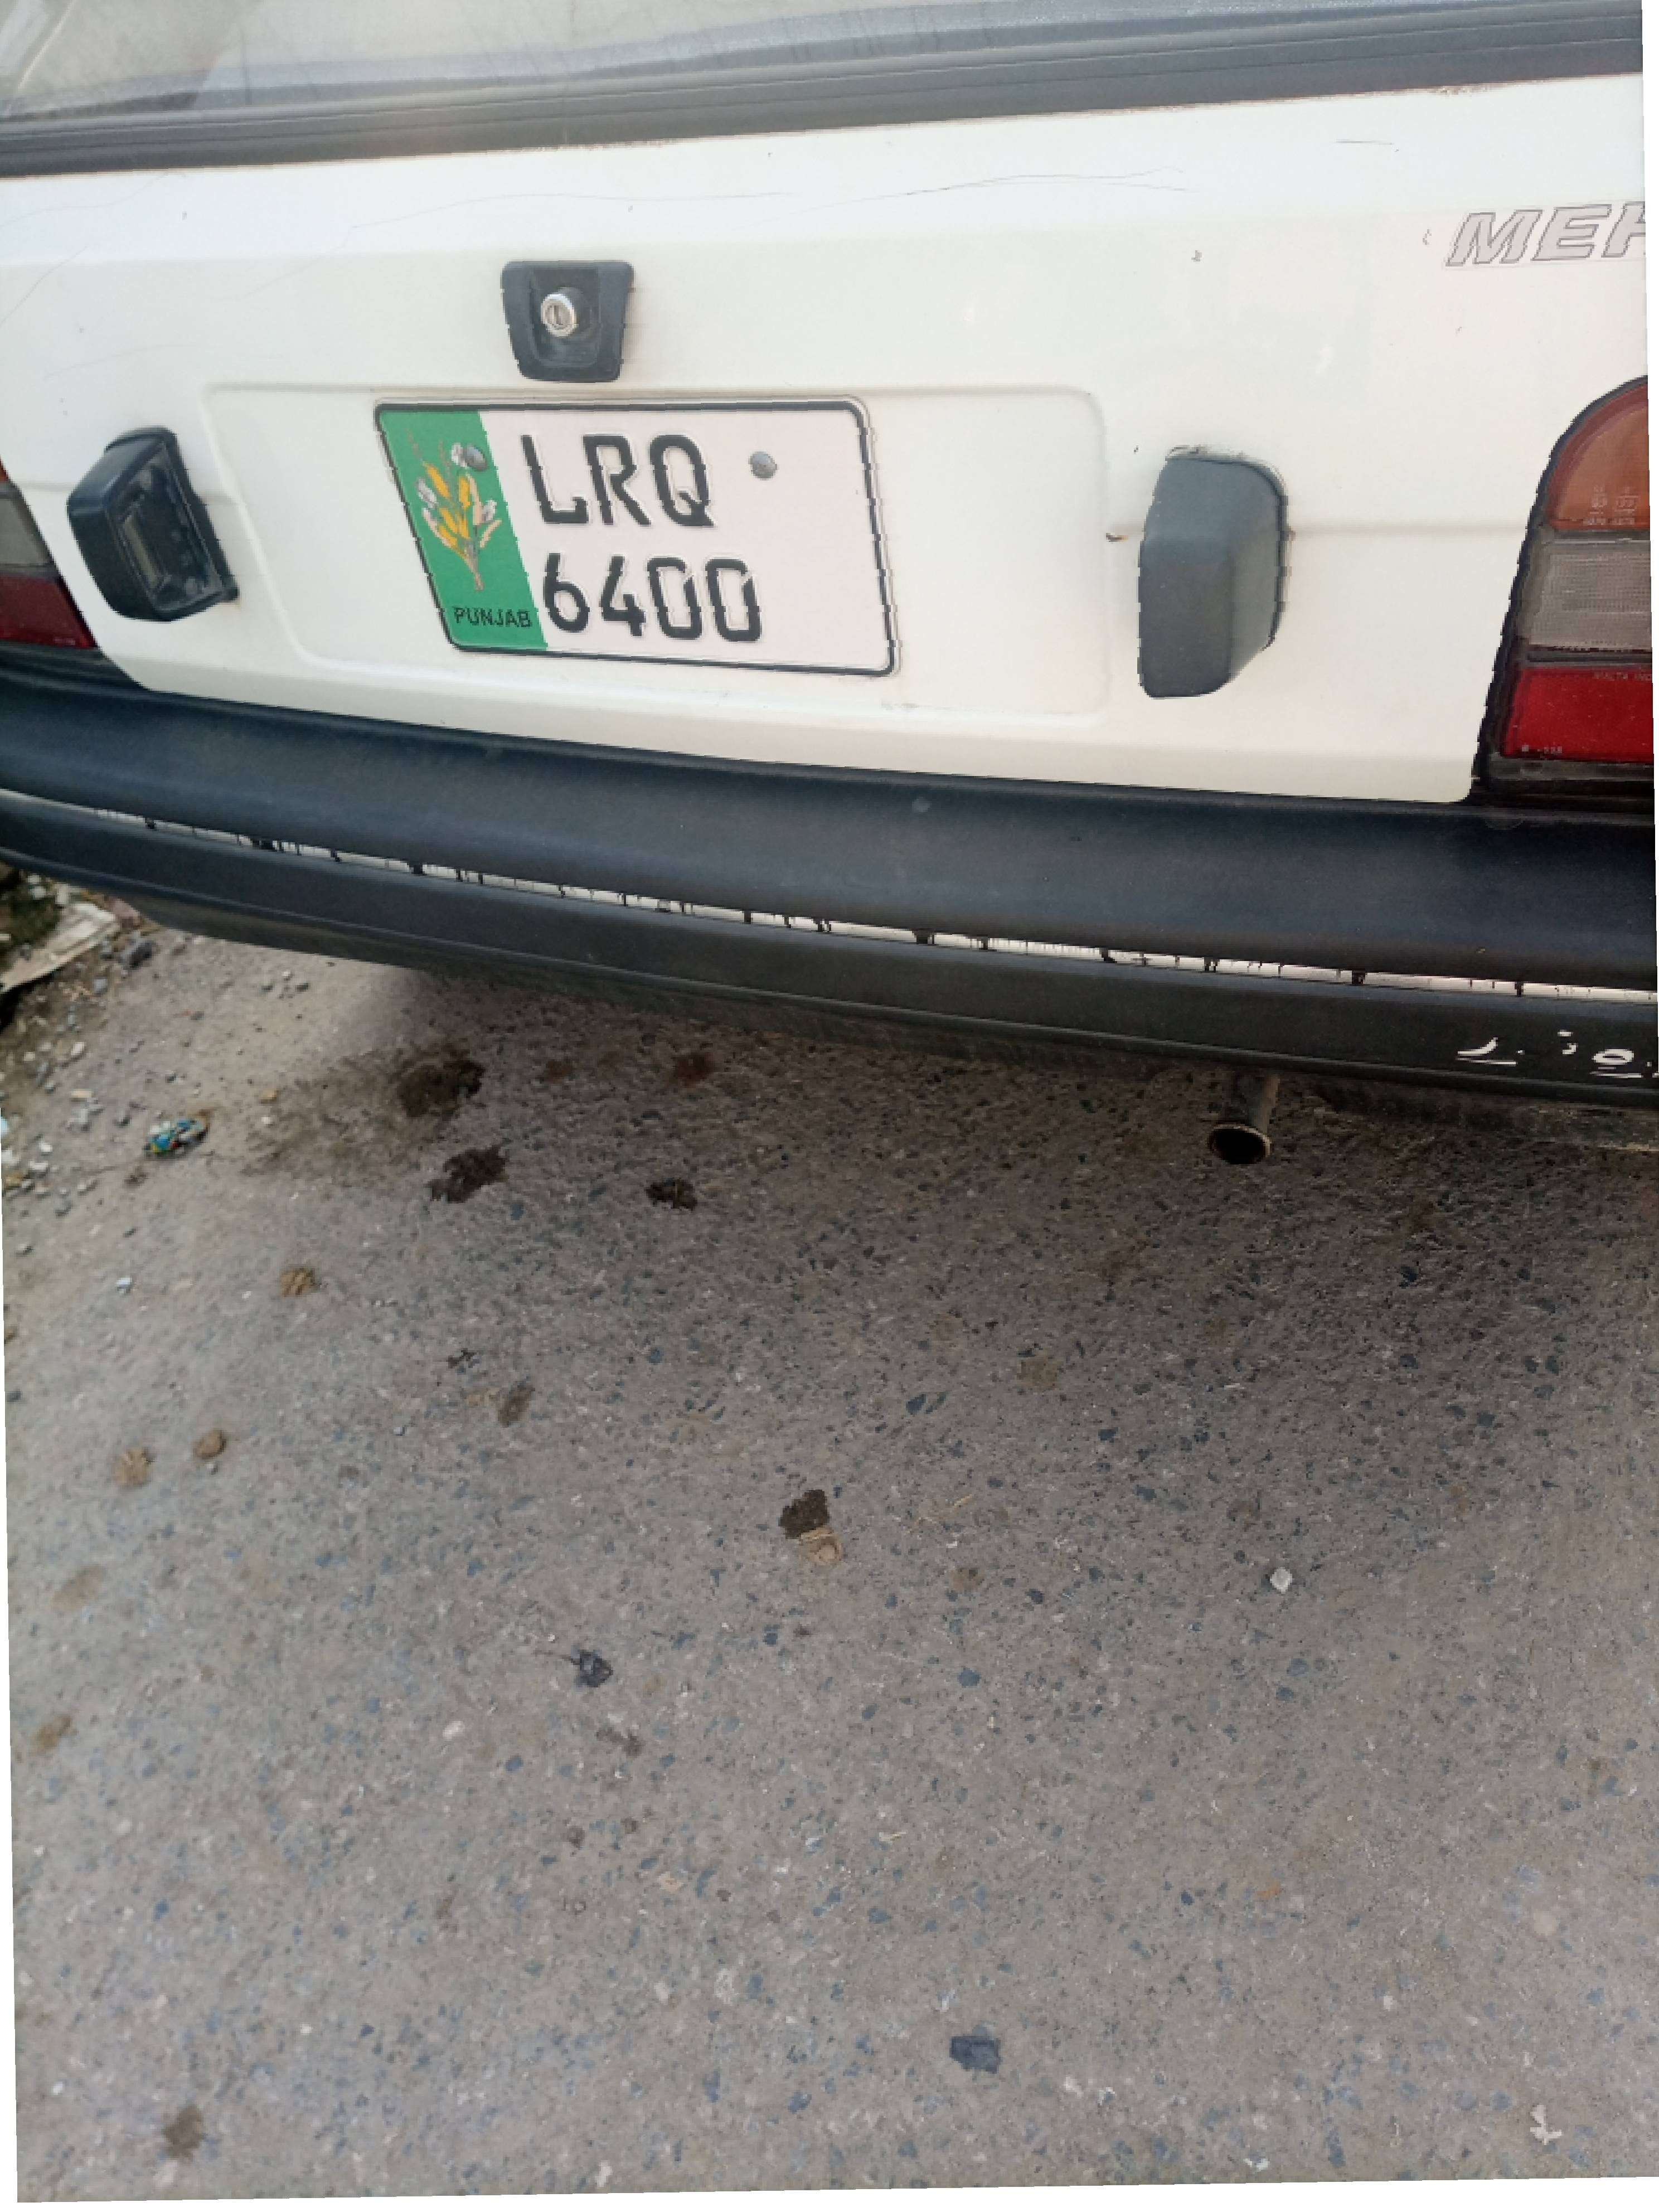number_plate: (359, 396, 909, 682)
